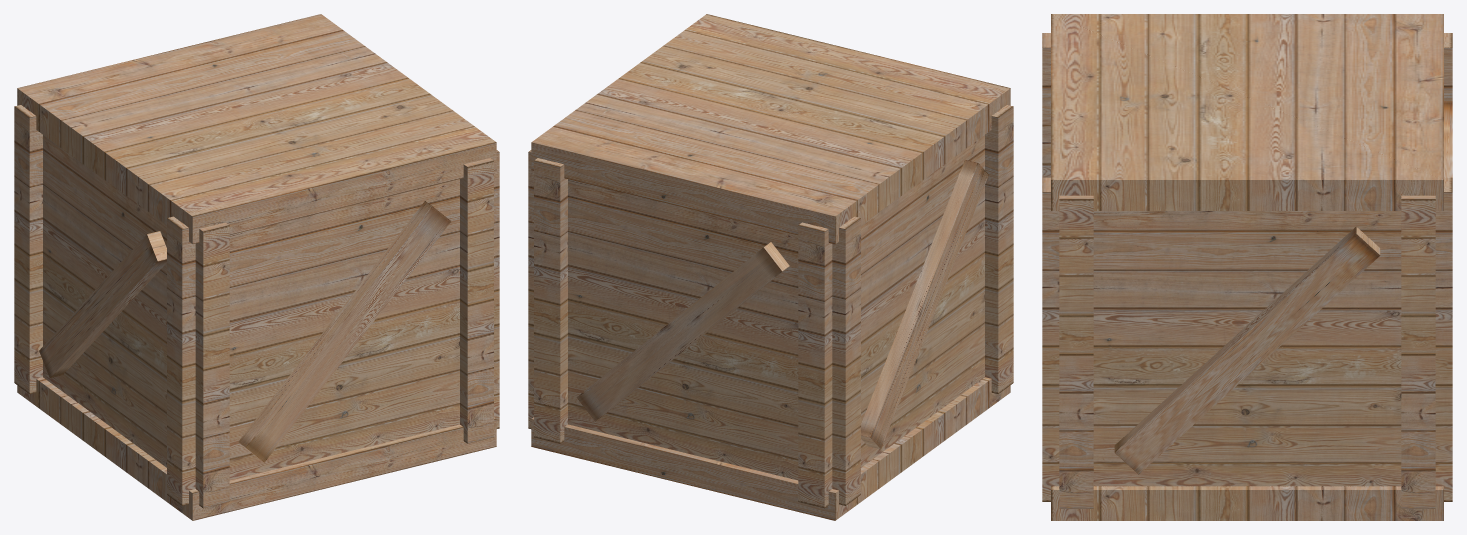
Rendered from crate.fbx.
3 renders of one model, left to right at view 1: azimuth 30°, elevation 25°; view 2: azimuth 150°, elevation 25°; view 3: azimuth 270°, elevation 25°, orthographic. The views are drawn at different scales.
Visible parts, largest first — view 1: Crate; view 2: Crate; view 3: Crate.
Boxes of the visible parts, x1,y1,x2,y2 form: Crate: [14, 14, 499, 520]; Crate: [528, 14, 1013, 520]; Crate: [1042, 14, 1452, 520].
Bounding box in the file's own units: 12 × 11 × 12.
